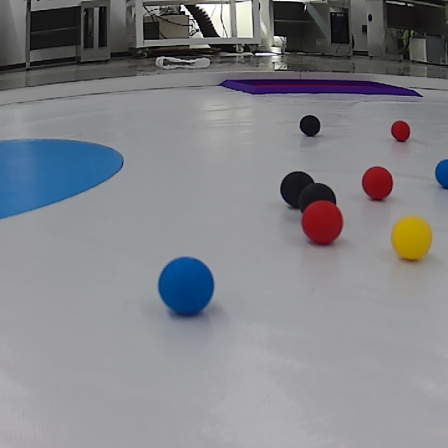black: (280, 167, 313, 202), (297, 184, 338, 211), (300, 112, 325, 137)
blue: (157, 255, 215, 315), (432, 158, 448, 188)
blue_aim: (213, 75, 427, 96)
blue_base: (1, 134, 126, 219)
red: (303, 203, 340, 251), (363, 166, 395, 199), (389, 119, 410, 143)
yellow: (390, 215, 433, 263)
